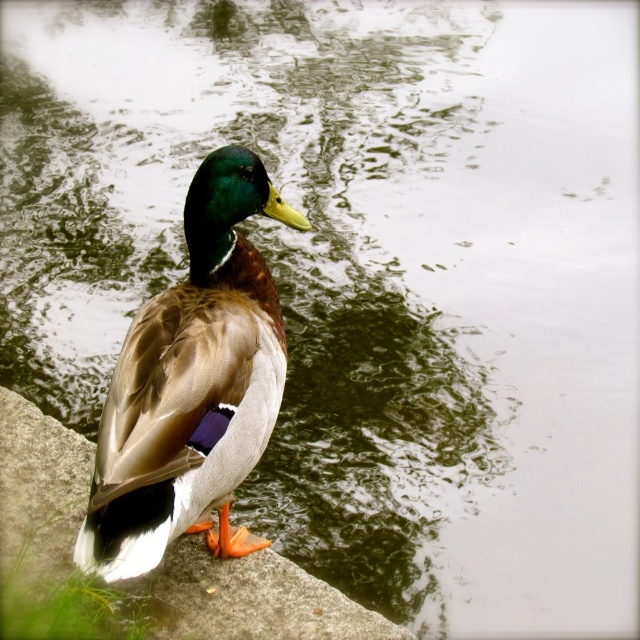Duck: (67, 142, 311, 583)
